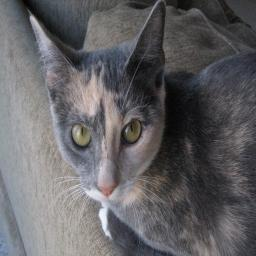catnose: (97, 182, 118, 198)
